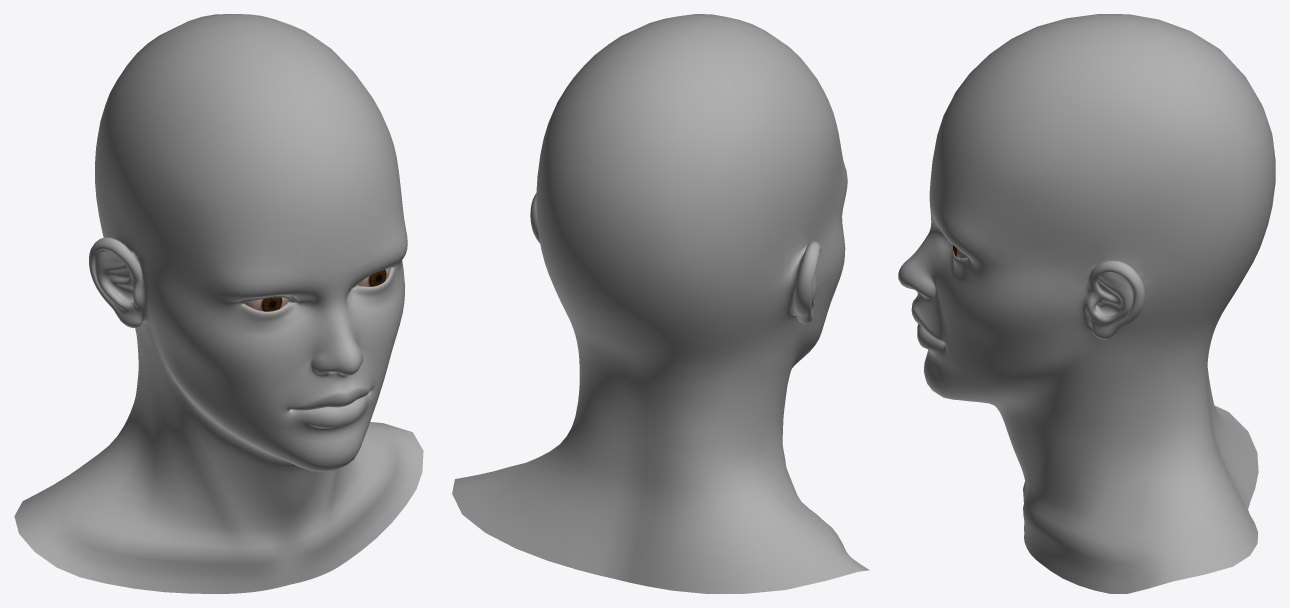
The model's file is Head.fbx.
The picture shows the model from 3 angles, left to right: view 1: azimuth 30°, elevation 25°; view 2: azimuth 150°, elevation 25°; view 3: azimuth 270°, elevation 25°; orthographic projection. The views are drawn at different scales.
Visible parts, largest first — view 1: scenes4:female_head_new_maya1:head; view 2: scenes4:female_head_new_maya1:head; view 3: scenes4:female_head_new_maya1:head.
Part boxes in pixels (bbox=[...]): scenes4:female_head_new_maya1:head: bbox=[14, 14, 423, 593]; scenes4:female_head_new_maya1:head: bbox=[452, 14, 869, 593]; scenes4:female_head_new_maya1:head: bbox=[898, 14, 1275, 593].
Bounding box in the file's own units: 44.37 × 55.44 × 37.33.
